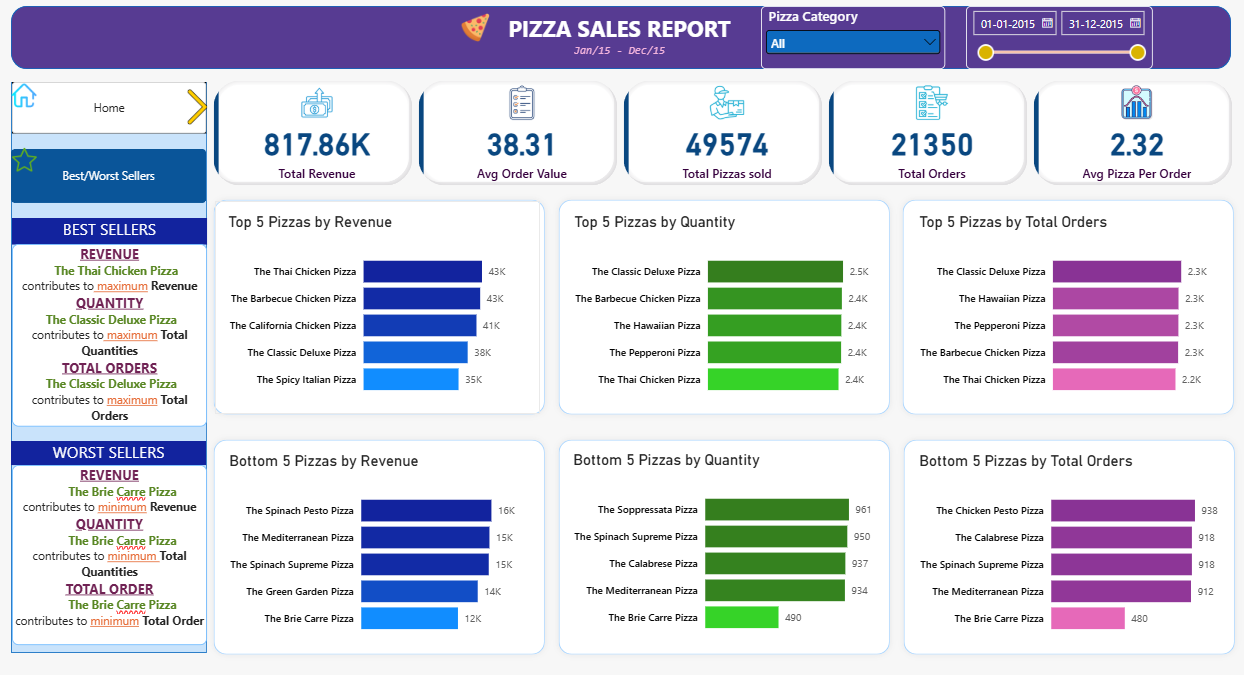

Layout of this report page (visuals, bound fields, positions):
{"tool":"powerbi","page":{"name":"Best/Worst Sellers","canvas":[1920,1080],"ordinal":1},"visuals":[{"type":"cardVisual","fields":{"Data":["public pizza_sales.Total Revenue","public pizza_sales.Avg Order Value","public pizza_sales.Total Pizzas sold","public pizza_sales.Total Orders","public pizza_sales.Avg Pizza Per Order"]},"box":[252.9,90.6,1245.9,142.4],"z":0},{"type":"shape","box":[16.9,8.4,1469.9,75.9],"z":1},{"type":"textbox","box":[16.9,16.9,1466.3,48.3],"z":2},{"type":"textbox","box":[16.9,51.7,1466.3,48.3],"z":3},{"type":"image","box":[558.4,16.9,37.1,34.8],"z":4},{"type":"shape","box":[253.1,233.7,415,275],"z":5},{"type":"shape","box":[16.9,100,236.1,688],"z":6},{"type":"textbox","box":[41.6,259.6,162.9,36],"z":7},{"type":"textbox","box":[17.8,263.3,235.3,31.8],"z":8},{"type":"textbox","box":[17.8,295.6,235.3,220],"z":9},{"type":"textbox","box":[16.7,532.2,235.3,29.4],"z":10},{"type":"textbox","box":[18.1,561.4,234.9,216.9],"z":11},{"type":"slicer","fields":{"Values":["public pizza_sales.pizza_category"]},"box":[920.2,7.9,222.5,76.4],"z":12},{"type":"slicer","fields":{"Values":["public pizza_sales.order_date"]},"box":[1167.4,7.9,224.7,76.4],"z":13},{"type":"shape","box":[668.1,233.5,415,275],"z":14},{"type":"shape","box":[1083.6,233.5,415,275],"z":15},{"type":"shape","box":[252.7,522.6,415,275],"z":16},{"type":"shape","box":[668.1,522.6,415,275],"z":17},{"type":"shape","box":[1084.6,522.6,415,275],"z":18},{"type":"barChart","title":"Top 5 Pizzas by Revenue","fields":{"Category":["public pizza_sales.pizza_name"],"Y":["public pizza_sales.Total Revenue"]},"box":[262.2,242.8,392.1,257.6],"z":19},{"type":"barChart","title":"Bottom 5 Pizzas by Revenue","fields":{"Category":["public pizza_sales.pizza_name"],"Y":["public pizza_sales.Total Revenue"]},"box":[264.4,531.2,392.1,257.6],"z":20},{"type":"barChart","title":"Top 5 Pizzas by Quantity","fields":{"Category":["public pizza_sales.pizza_name"],"Y":["public pizza_sales.Total Pizzas sold"]},"box":[679.3,242.8,392.1,257.6],"z":21},{"type":"barChart","title":"Bottom 5 Pizzas by Quantity","fields":{"Category":["public pizza_sales.pizza_name"],"Y":["public pizza_sales.Total Pizzas sold"]},"box":[678.8,530.6,392.1,257.6],"z":22},{"type":"barChart","title":"Top 5 Pizzas by Total Orders","fields":{"Category":["public pizza_sales.pizza_name"],"Y":["public pizza_sales.Total Orders"]},"box":[1095.3,243.5,392.1,257.6],"z":23},{"type":"barChart","title":"Bottom 5 Pizzas by Total Orders","fields":{"Category":["public pizza_sales.pizza_name"],"Y":["public pizza_sales.Total Orders"]},"box":[1095.3,531.8,392.1,257.6],"z":24},{"type":"pageNavigator","box":[17.8,100,234.4,62.2],"z":25},{"type":"image","box":[10,101.1,46.7,30],"z":27},{"type":"pageNavigator","box":[16.7,181.1,235,65],"z":28},{"type":"image","box":[17.8,162.2,30,62.2],"z":29},{"type":"image","box":[220,105.6,42.3,48.5],"z":30}]}

Visuals, with their boxes on the page's 1920x1080 design canvas (x1, y1, x2, y2). These are canvas units, not pixel positions in the 1244x675 screenshot, which may show the page scaled, cropped or inside an application window:
cardVisual - public pizza_sales.Total Revenue x public pizza_sales.Avg Order Value: (253,91,1499,233)
shape: (17,8,1487,84)
textbox: (17,17,1483,65)
textbox: (17,52,1483,100)
image: (558,17,596,52)
shape: (253,234,668,509)
shape: (17,100,253,788)
textbox: (42,260,204,296)
textbox: (18,263,253,295)
textbox: (18,296,253,516)
textbox: (17,532,252,562)
textbox: (18,561,253,778)
slicer - public pizza_sales.pizza_category: (920,8,1143,84)
slicer - public pizza_sales.order_date: (1167,8,1392,84)
shape: (668,234,1083,508)
shape: (1084,234,1499,508)
shape: (253,523,668,798)
shape: (668,523,1083,798)
shape: (1085,523,1500,798)
"Top 5 Pizzas by Revenue" barChart: (262,243,654,500)
"Bottom 5 Pizzas by Revenue" barChart: (264,531,656,789)
"Top 5 Pizzas by Quantity" barChart: (679,243,1071,500)
"Bottom 5 Pizzas by Quantity" barChart: (679,531,1071,788)
"Top 5 Pizzas by Total Orders" barChart: (1095,244,1487,501)
"Bottom 5 Pizzas by Total Orders" barChart: (1095,532,1487,789)
pageNavigator: (18,100,252,162)
image: (10,101,57,131)
pageNavigator: (17,181,252,246)
image: (18,162,48,224)
image: (220,106,262,154)
